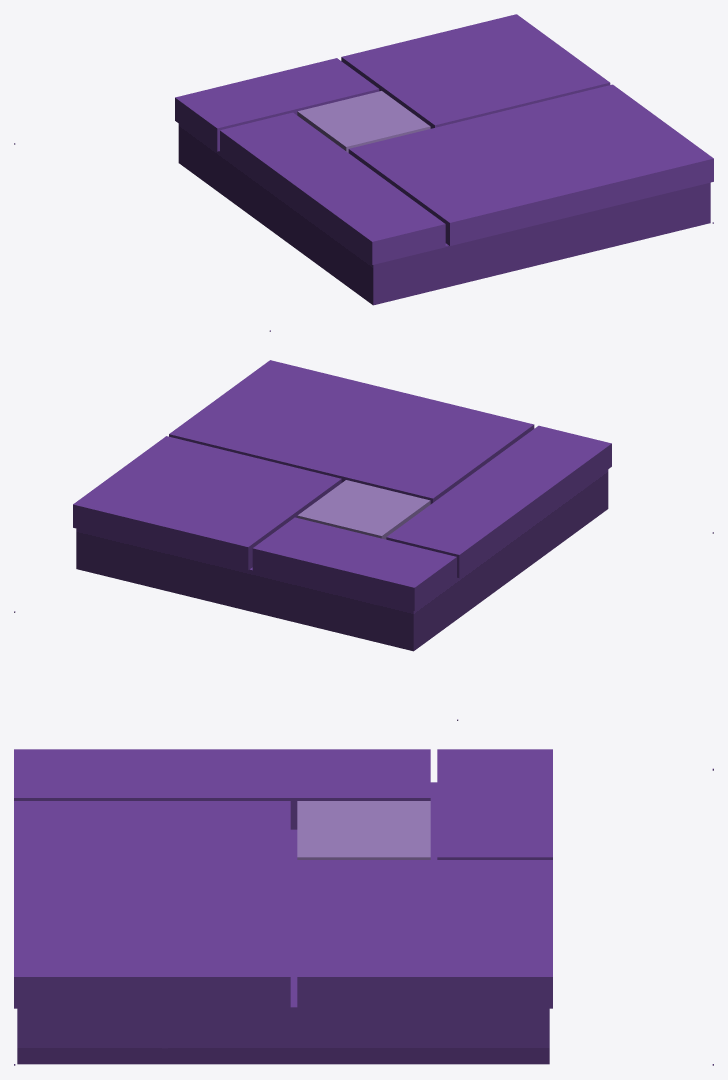
Rendered from floor_crystal_corner.glb.
3 renders of one model, top to bottom at view 1: azimuth 30°, elevation 25°; view 2: azimuth 150°, elevation 25°; view 3: azimuth 270°, elevation 25°, orthographic. The views are drawn at different scales.
Size of the model in its own units: 1 by 0.14 by 1.
1 material, 1 textured.
